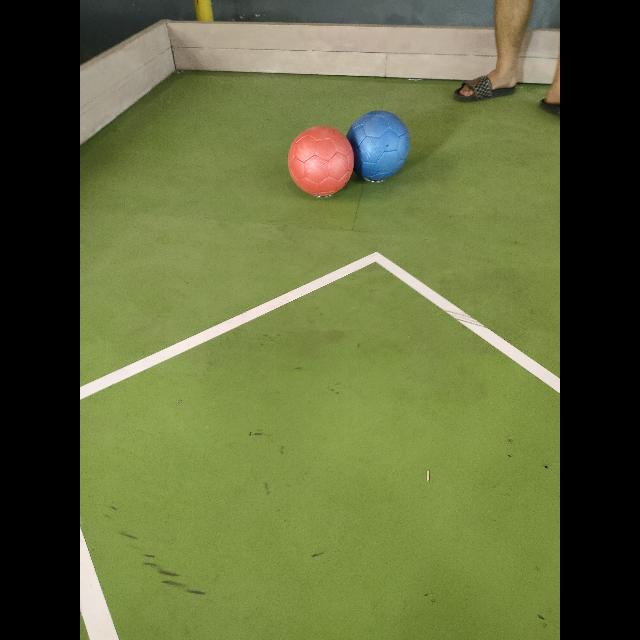B: (348, 111, 410, 181)
R: (288, 126, 354, 196)
